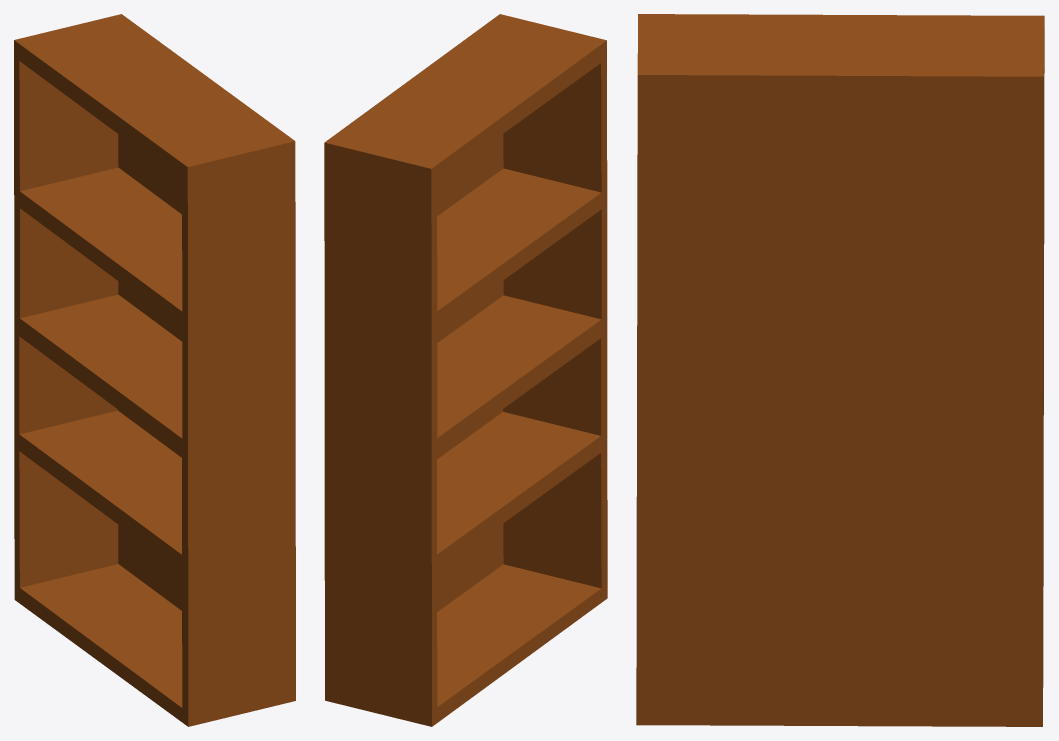
Rendered from Librero2.fbx.
The picture shows the model from 3 angles, left to right: view 1: azimuth 30°, elevation 25°; view 2: azimuth 150°, elevation 25°; view 3: azimuth 270°, elevation 25°; orthographic projection. The views are drawn at different scales.
Parts seen in each view (by area): view 1: Cube.037; view 2: Cube.037; view 3: Cube.037.
Boxes of the visible parts, box(x1,y1,x2,y2) form: Cube.037: box(14, 14, 295, 726); Cube.037: box(324, 14, 607, 726); Cube.037: box(636, 14, 1044, 726).
Size of the model in its own units: 0.2867 by 1.42 by 0.8037.
